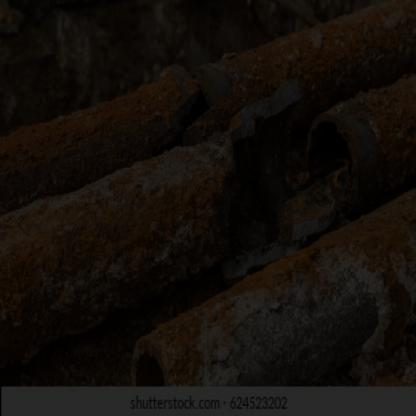burst: (218, 96, 358, 247)
